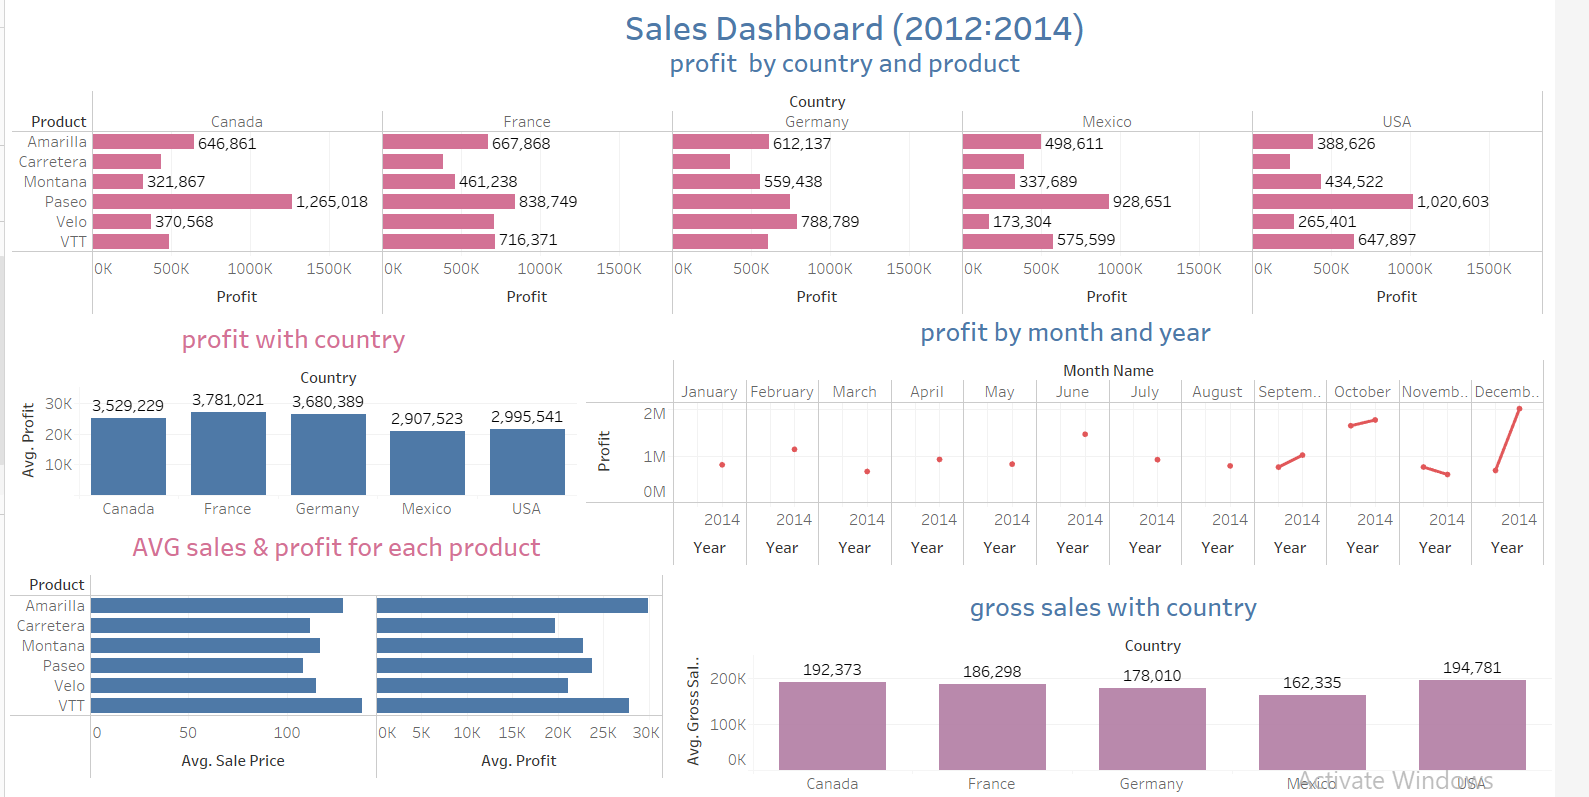

The dashboard page shown, as its layout file describes it:
{"tool":"tableau","page":{"name":"Sales Dashboard (2012:2014)","canvas":[1000,1000],"units":"permille","ordinal":0},"visuals":[{"type":"title","box":[5.2,9.8,989.7,59.1]},{"type":"worksheet","title":"profit  by country and product","mark":"Automatic","rows":["Product"],"cols":["Country","Profit"],"box":[4.5,57.9,990.3,339.9]},{"type":"worksheet","title":"profit by month and year","mark":"Automatic","rows":["Profit"],"cols":["Month Name","Year"],"box":[374.8,389.2,618.7,315.3]},{"type":"worksheet","title":"profit with country","mark":"Bar","rows":["Profit"],"cols":["Country"],"box":[3.2,397.8,365.8,250]},{"type":"worksheet","title":"AVG sales & profit for each product","mark":"Automatic","rows":["Product"],"cols":["Sale Price","Profit"],"box":[3.2,653.9,432.9,332.5]},{"type":"worksheet","title":"gross sales with country","mark":"Bar","rows":["Gross Sales"],"cols":["Country"],"box":[432.3,727.8,565.8,258.6]}]}

Visuals, with their boxes on the dashboard's canvas, which has no fixed pixel size, in thousandths of its width and height (x1, y1, x2, y2). These are canvas units, not pixel positions in the 1589x797 screenshot, which may show the page scaled, cropped or inside an application window:
title: (left=5, top=10, right=995, bottom=69)
"profit  by country and product" worksheet: (left=4, top=58, right=995, bottom=398)
"profit by month and year" worksheet: (left=375, top=389, right=994, bottom=704)
"profit with country" worksheet (Bar marks): (left=3, top=398, right=369, bottom=648)
"AVG sales & profit for each product" worksheet: (left=3, top=654, right=436, bottom=986)
"gross sales with country" worksheet (Bar marks): (left=432, top=728, right=998, bottom=986)
